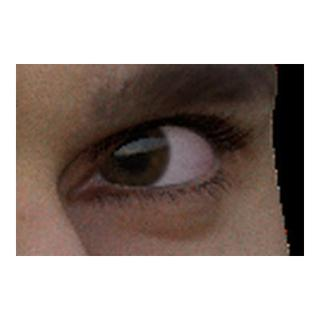pupil: (116, 138, 145, 168)
